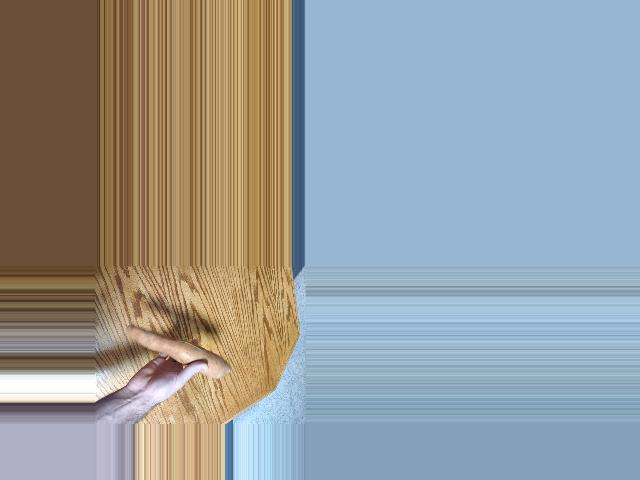sweet_potato: (125, 332, 234, 366)
